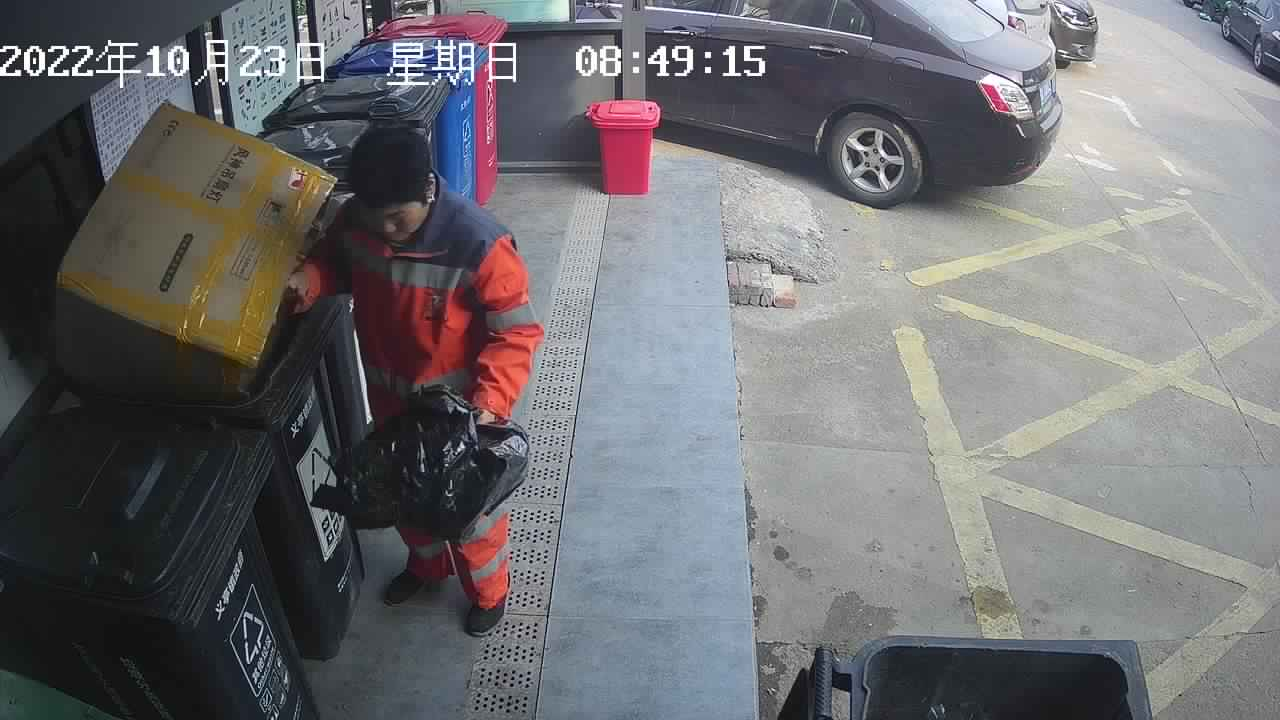garbage-bag: (307, 379, 536, 546)
worker: (275, 122, 551, 642)
